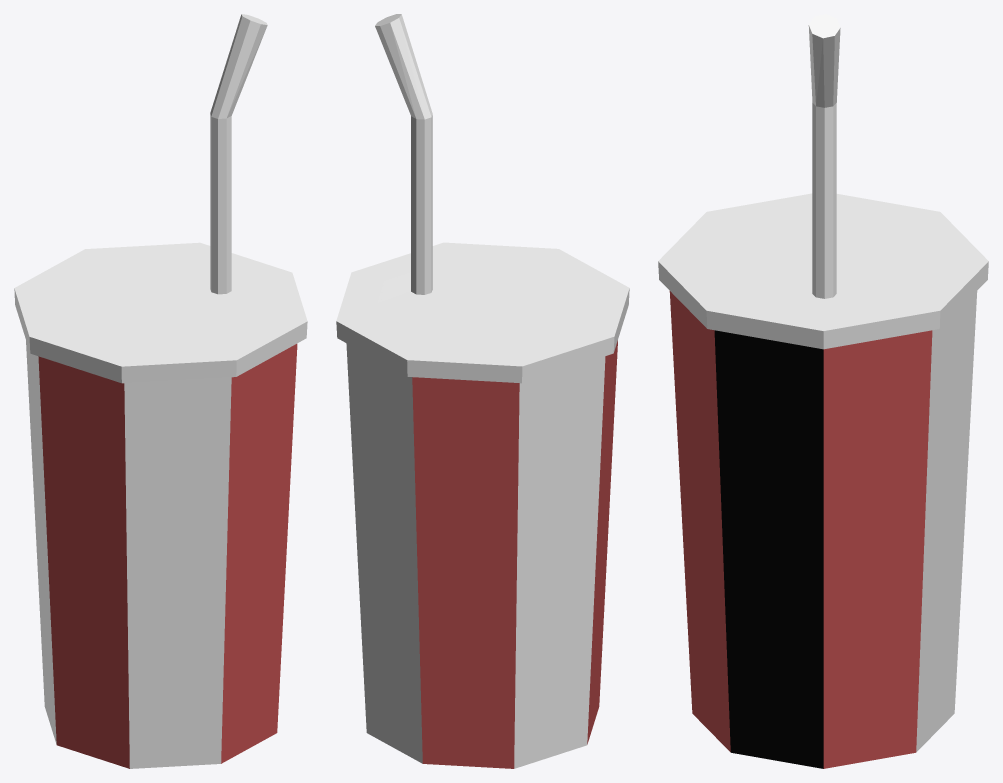
Rendered from Cup.fbx.
3 views of the same model, side by side, from view 1: azimuth 30°, elevation 25°; view 2: azimuth 150°, elevation 25°; view 3: azimuth 270°, elevation 25° (orthographic). The views are drawn at different scales.
Visible parts, largest first — view 1: Cup; view 2: Cup; view 3: Cup.
Boxes of the visible parts, x1=… form: Cup: x1=14, y1=14, x2=307, y2=768; Cup: x1=336, y1=14, x2=629, y2=768; Cup: x1=658, y1=14, x2=988, y2=768.
Bounding box in the file's own units: 0.2394 × 0.5937 × 0.2394.
